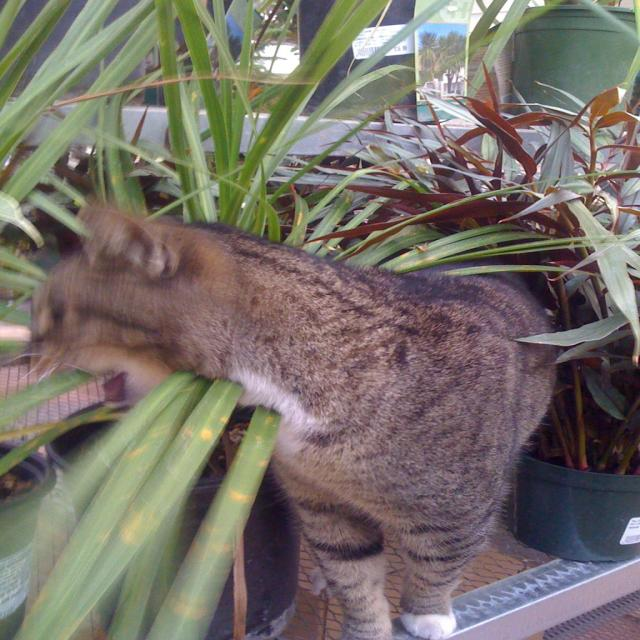Cat: (4, 202, 559, 640)
